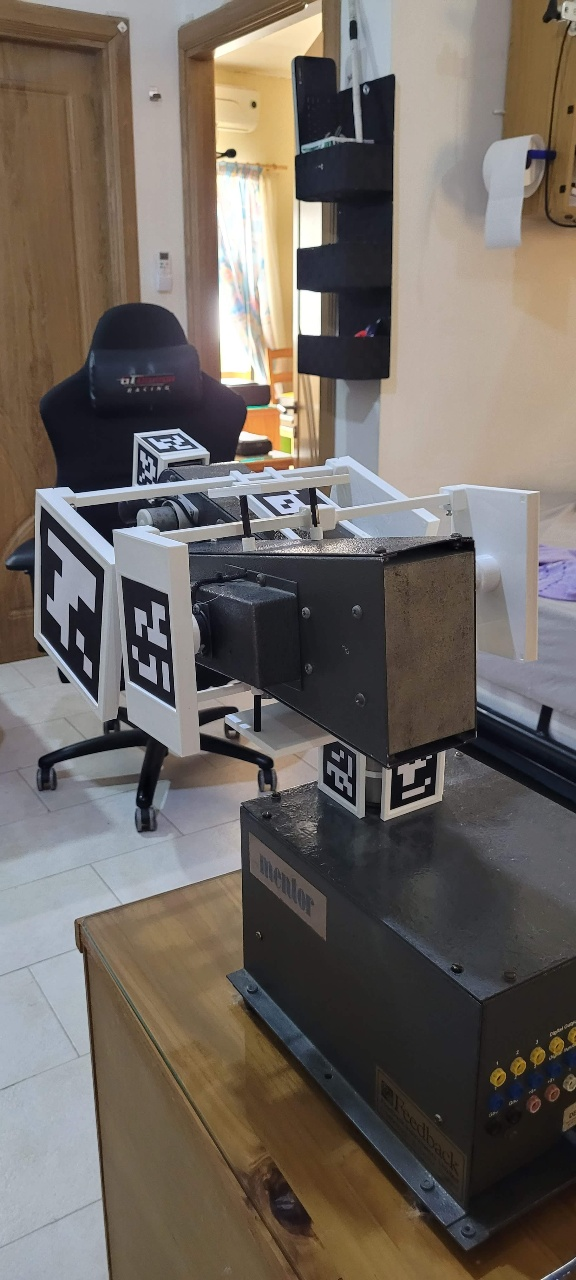Robot: (30, 305, 567, 1141)
